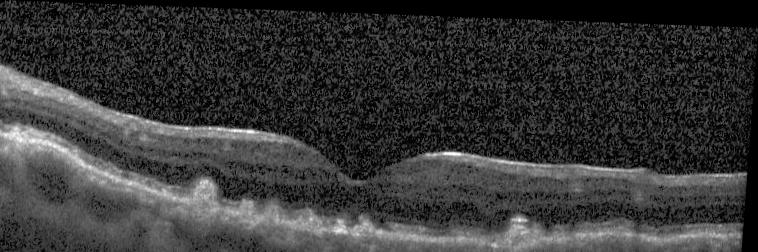retinal_drusen: (187, 178, 218, 208), (289, 207, 327, 230), (256, 202, 287, 223), (510, 218, 535, 240), (355, 217, 378, 232), (236, 197, 256, 214), (330, 215, 351, 231)
